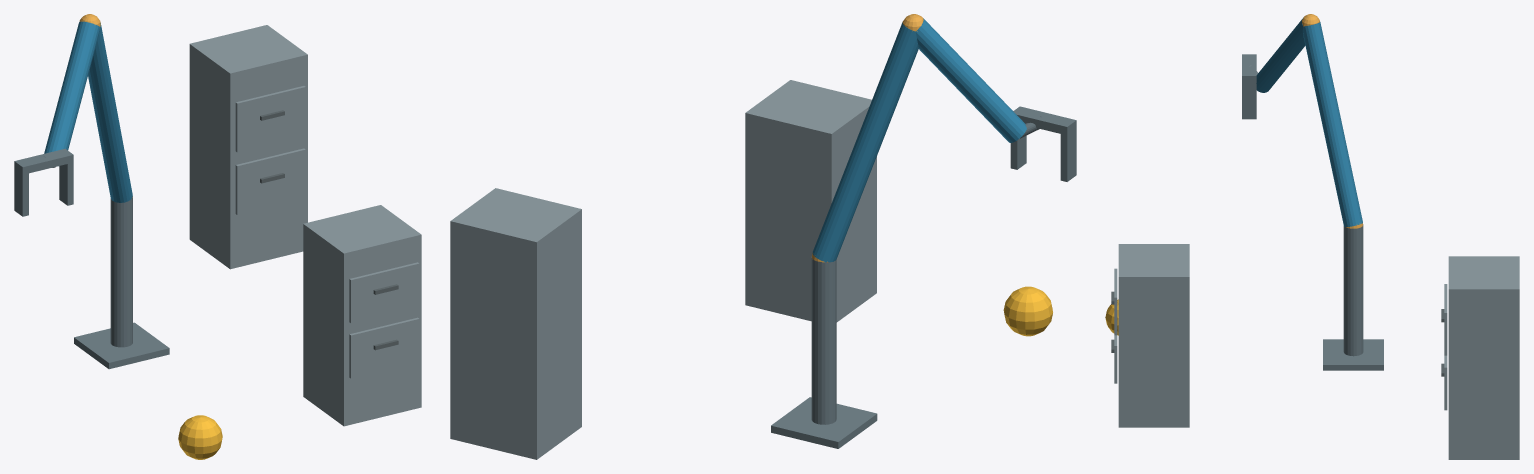
3 renders of one model, left to right at view 1: azimuth 30°, elevation 25°; view 2: azimuth 150°, elevation 25°; view 3: azimuth 270°, elevation 25°, orthographic. The views are drawn at different scales.
Visible parts, largest first — view 1: cabinet_2 body, cabinet_1 body, moving link 1, cabinet_2 drawer front.001, cabinet_2 drawer front, fixed post, cabinet_1 drawer front.001, cabinet_1 drawer front, moving link 2, pedestal, ball ball_1, gripper bridge (+2 smaller); view 2: cabinet_2 body, cabinet_1 body, moving link 1, fixed post, moving link 2, pedestal, ball ball_1, gripper bridge, gripper finger -1; view 3: cabinet_2 body, cabinet_1 body, moving link 1, fixed post, pedestal, moving link 2, gripper finger 1, gripper bridge.
Boxes of the visible parts, <box> form: cabinet_2 body: <box>189,25,307,269</box>; cabinet_1 body: <box>303,205,421,426</box>; moving link 1: <box>88,23,132,202</box>; cabinet_2 drawer front.001: <box>235,86,305,152</box>; cabinet_2 drawer front: <box>235,148,305,214</box>; fixed post: <box>110,196,132,347</box>; cabinet_1 drawer front.001: <box>349,262,419,323</box>; cabinet_1 drawer front: <box>349,317,419,378</box>; moving link 2: <box>44,21,99,153</box>; pedestal: <box>74,322,169,369</box>; ball ball_1: <box>178,415,222,459</box>; gripper bridge: <box>14,148,73,174</box>; cabinet_2 body: <box>450,188,581,459</box>; cabinet_1 body: <box>745,80,876,322</box>; moving link 1: <box>812,22,918,262</box>; fixed post: <box>811,257,836,424</box>; moving link 2: <box>915,18,1026,142</box>; pedestal: <box>771,397,877,448</box>; ball ball_1: <box>1003,286,1052,336</box>; gripper bridge: <box>1013,106,1076,135</box>; gripper finger -1: <box>1060,129,1076,181</box>; cabinet_2 body: <box>1448,256,1519,459</box>; cabinet_1 body: <box>1118,244,1189,427</box>; moving link 1: <box>1302,22,1362,226</box>; fixed post: <box>1343,225,1363,356</box>; pedestal: <box>1323,339,1383,370</box>; moving link 2: <box>1256,18,1305,92</box>; gripper finger 1: <box>1242,82,1256,119</box>; gripper bridge: <box>1242,54,1256,82</box>.
Bounding box in the file's own units: 1.66 × 1.44 × 1.69.
